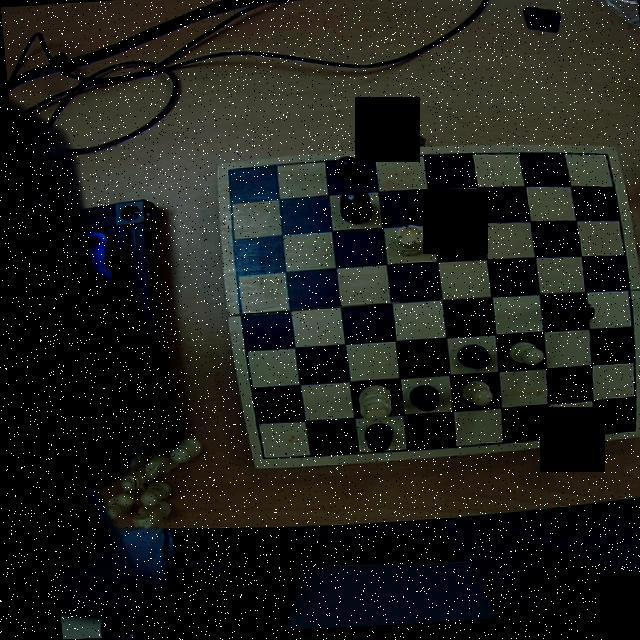chess-table-corners: (216, 164, 242, 186), (242, 446, 266, 468), (592, 154, 615, 173), (609, 427, 638, 442)
